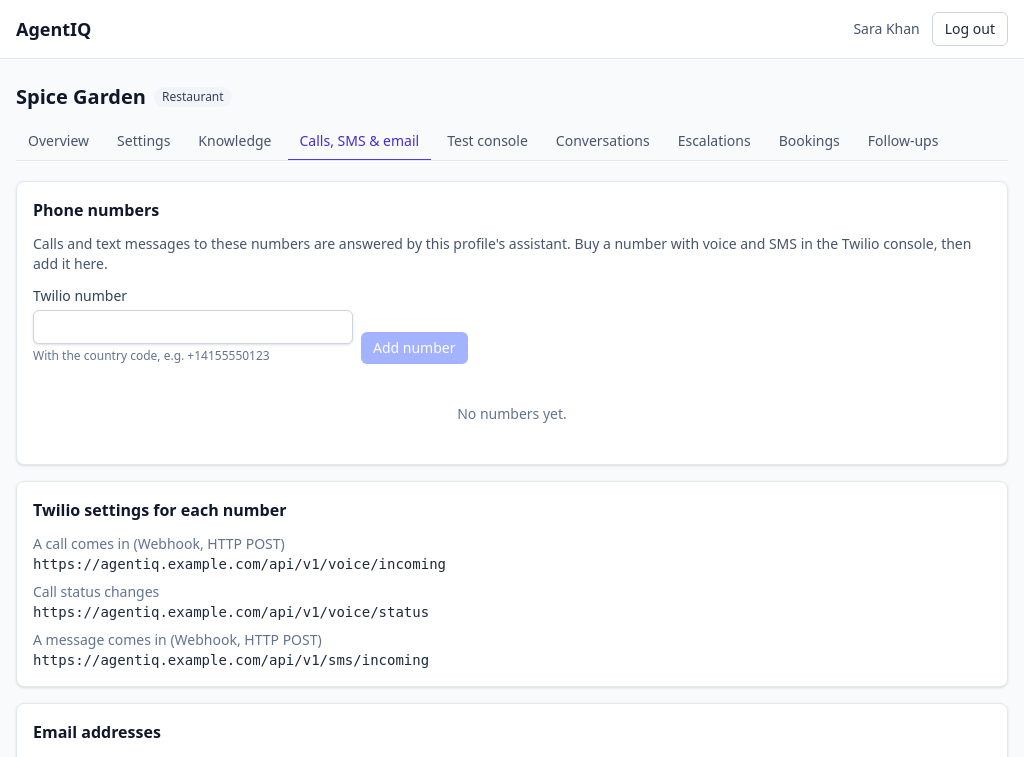
Test: channels › adds a number and shows what to paste into Twilio
The width and height of the screenshot is (1024, 757).
Expected: the text "No numbers yet." is shown, [457, 404, 567, 423]
Expected: the text "https://agentiq.example.com/api/v1/voice/incoming" is shown, [33, 556, 446, 572]
In the field labelled "Twilio number": (193, 327) [33, 310, 353, 344], type "+1 415 555 0123"
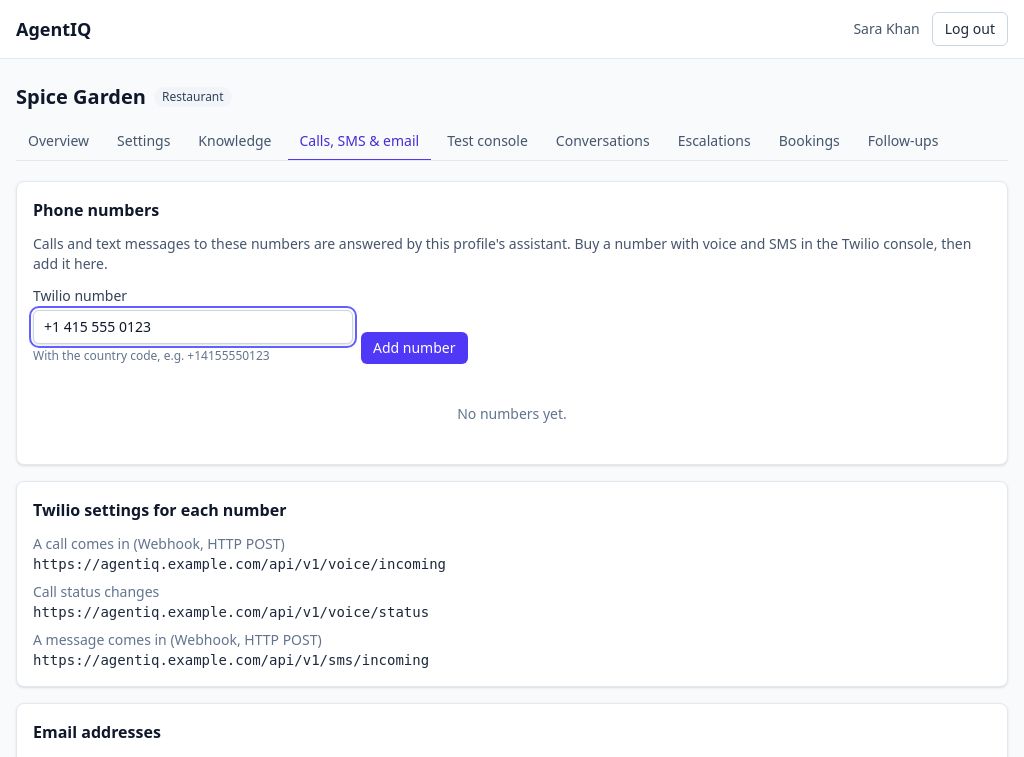
Click the button "Add number": (414, 348) [361, 332, 468, 364]
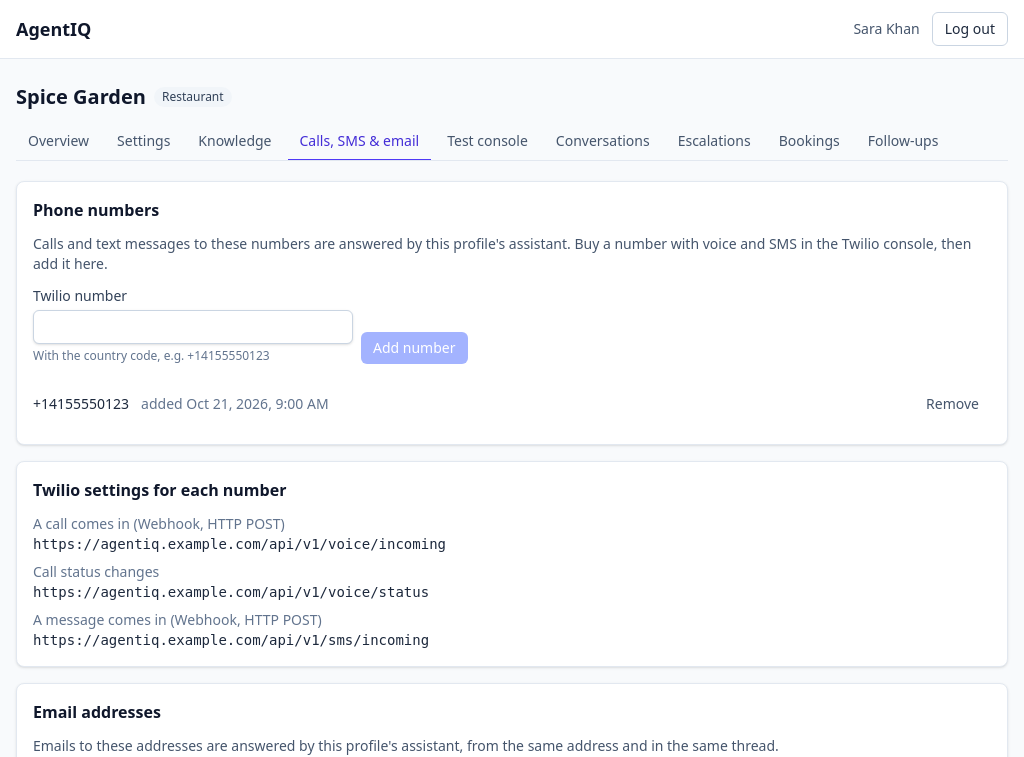
Expected: the text "+14155550123" is shown, [33, 394, 129, 413]
Expected: the button with aria-label "Remove +14155550123" is shown, [914, 388, 991, 420]
